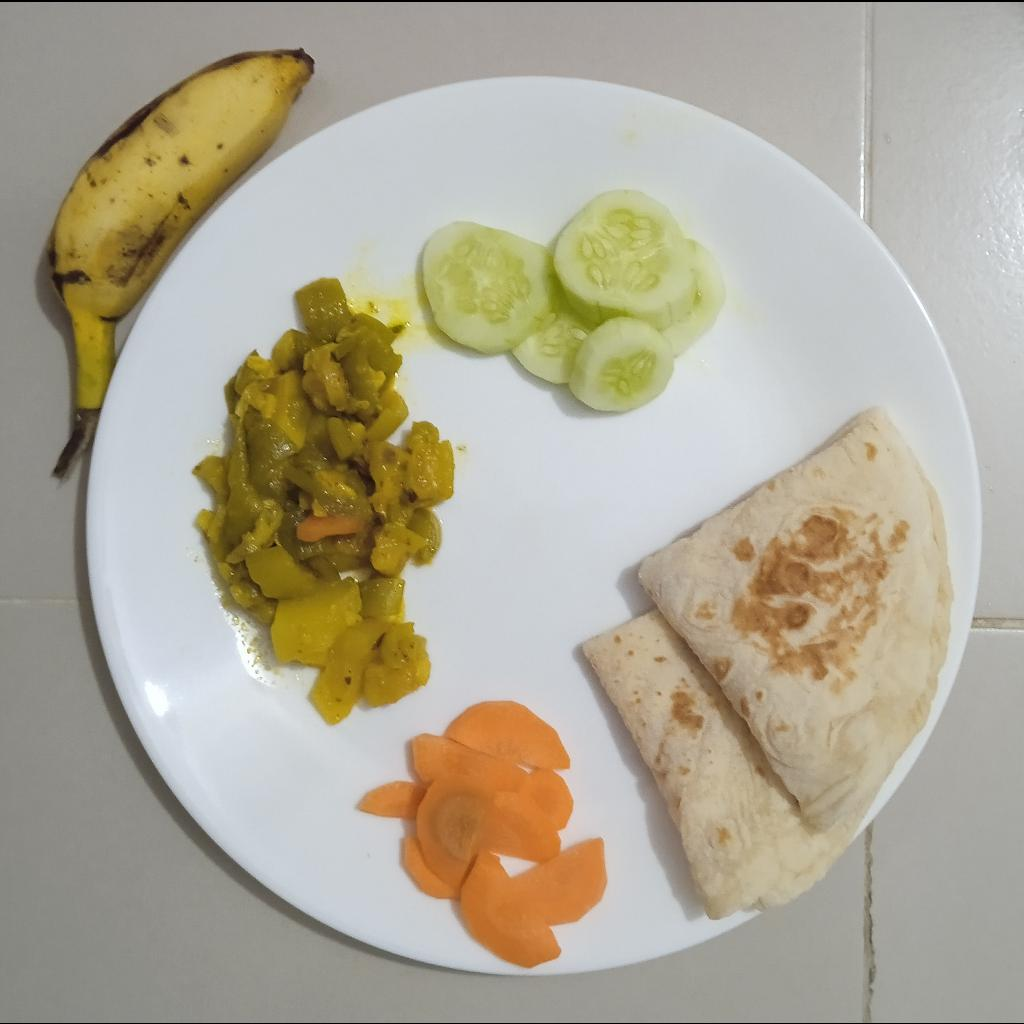banana: (52, 42, 312, 413)
carrot: (352, 697, 605, 975)
cucumber: (419, 186, 729, 413)
dundol: (192, 274, 459, 735)
ruti: (578, 403, 950, 923)
